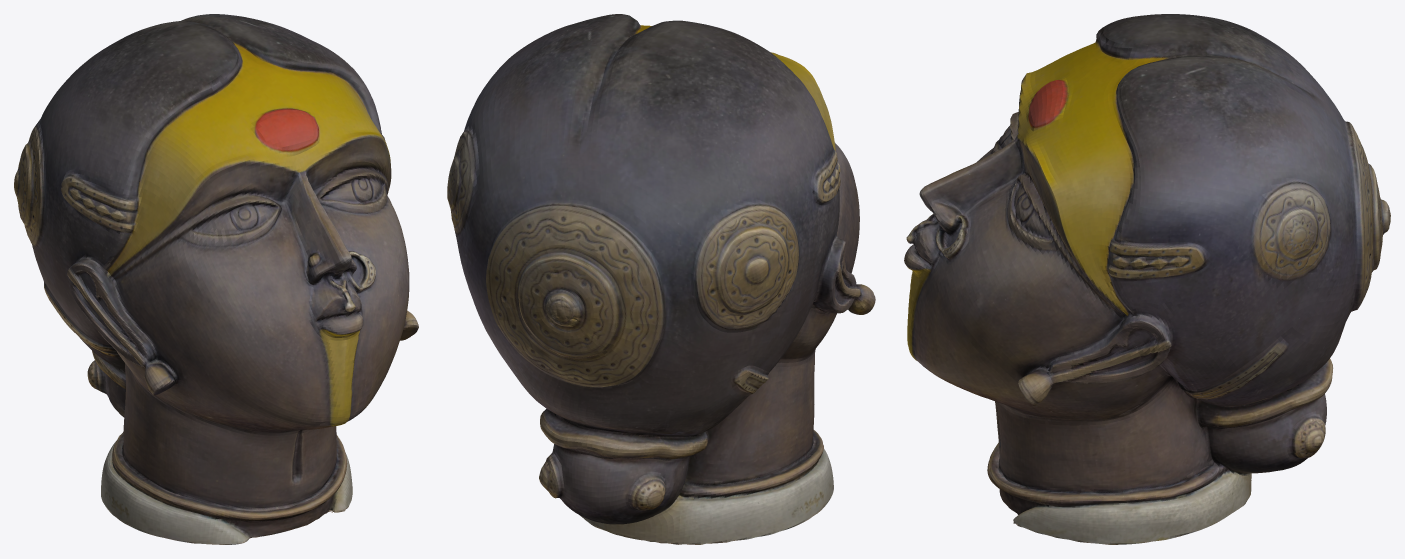
Rendered from thota-head-with-nose-ring-and-hair-ornaments.glb.
The picture shows the model from 3 angles, left to right: view 1: azimuth 30°, elevation 25°; view 2: azimuth 150°, elevation 25°; view 3: azimuth 270°, elevation 25°; orthographic projection. The views are drawn at different scales.
Visible parts, largest first — view 1: 13_Thotta_Head_04_Edited; view 2: 13_Thotta_Head_04_Edited; view 3: 13_Thotta_Head_04_Edited.
Boxes of the visible parts, x1,y1,x2,y2 form: 13_Thotta_Head_04_Edited: (14, 14, 418, 544); 13_Thotta_Head_04_Edited: (447, 14, 875, 544); 13_Thotta_Head_04_Edited: (904, 14, 1390, 544).
Size of the model in its own units: 16.87 by 22.27 by 21.48.
1 material, 1 textured.
